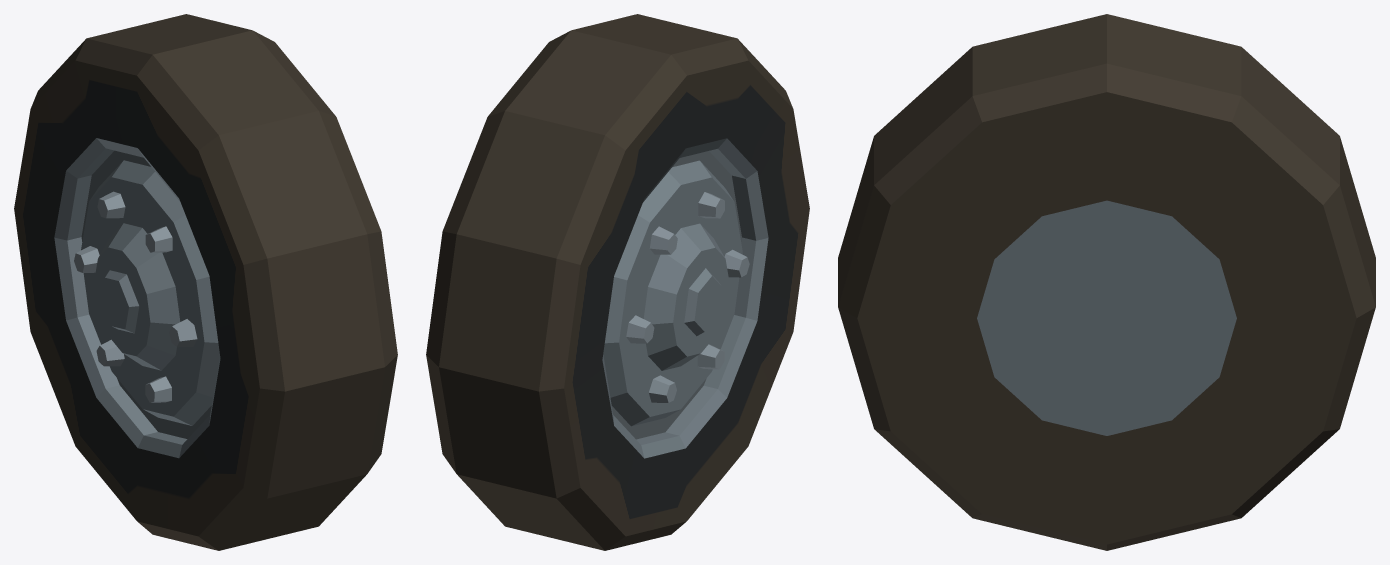
The model's file is SM_Veh_BigRig_Wheel_fr.obj.
3 views of the same model, side by side, from view 1: azimuth 30°, elevation 25°; view 2: azimuth 150°, elevation 25°; view 3: azimuth 270°, elevation 25° (orthographic).
Visible parts, largest first — view 1: SM_Veh_BigRig_Wheel_fr_0; view 2: SM_Veh_BigRig_Wheel_fr_0; view 3: SM_Veh_BigRig_Wheel_fr_0.
Boxes of the visible parts, <box> form: SM_Veh_BigRig_Wheel_fr_0: <box>14,14,397,550</box>; SM_Veh_BigRig_Wheel_fr_0: <box>426,14,809,550</box>; SM_Veh_BigRig_Wheel_fr_0: <box>838,14,1375,550</box>.
Bounding box in the file's own units: 0.387 × 1.11 × 1.11.
Materials: 1 (1 with a texture image).
